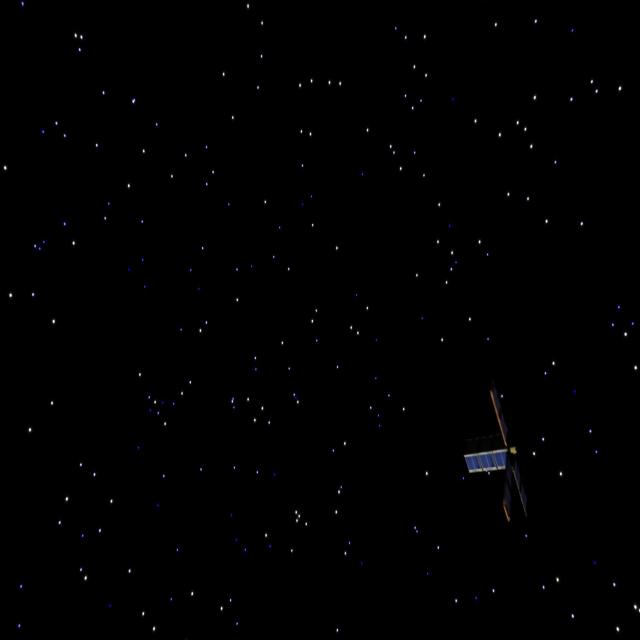medium_debris: (462, 385, 538, 539)
